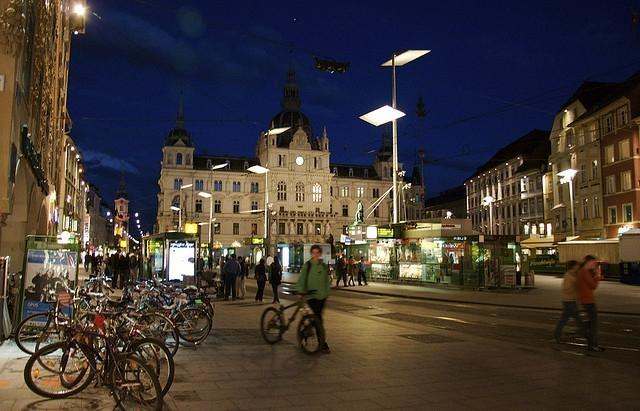bicycle: (22, 289, 165, 411), (15, 283, 175, 392), (134, 284, 212, 346), (258, 288, 326, 358), (122, 312, 180, 356), (178, 284, 216, 324), (127, 293, 143, 321), (84, 276, 112, 289), (154, 278, 180, 290), (136, 278, 151, 293)
